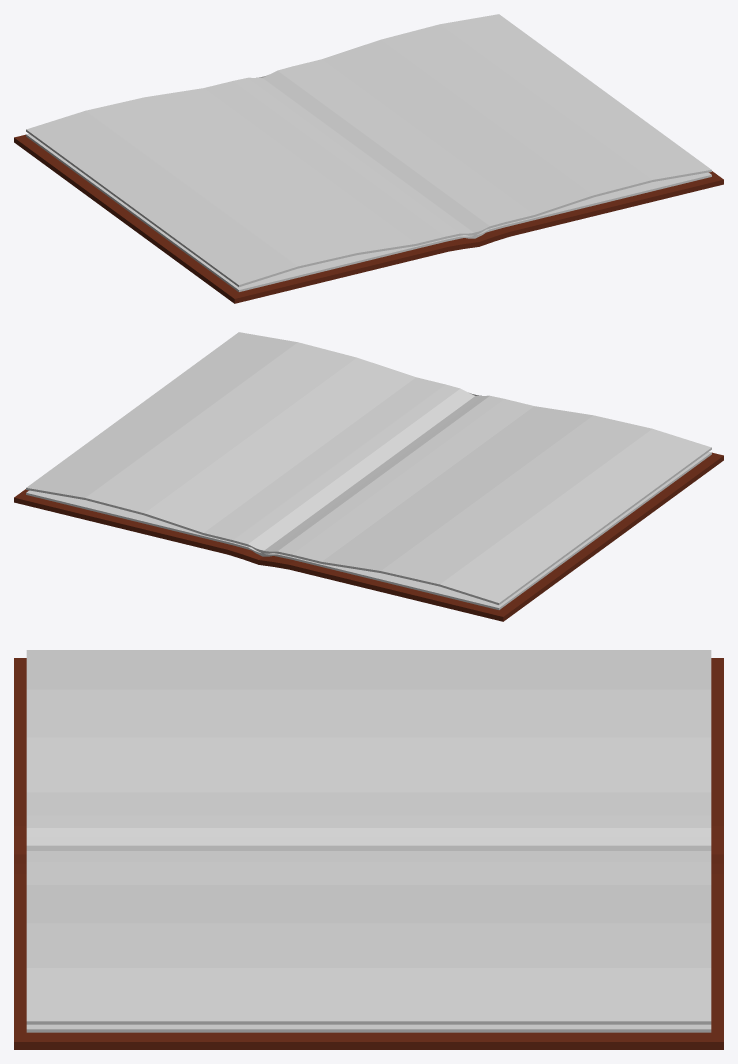
File: recipe book.fbx
3 renders of one model, top to bottom at view 1: azimuth 30°, elevation 25°; view 2: azimuth 150°, elevation 25°; view 3: azimuth 270°, elevation 25°, orthographic. The views are drawn at different scales.
Visible parts, largest first — view 1: Cube.002, Cube.001, Cube; view 2: Cube.002, Cube.001, Cube; view 3: Cube.002, Cube.001, Cube.
Boxes of the visible parts, x1=… form: Cube.002: x1=26, y1=14, x2=711, y2=286; Cube.001: x1=14, y1=134, x2=723, y2=303; Cube: x1=26, y1=134, x2=711, y2=291; Cube.002: x1=26, y1=332, x2=711, y2=604; Cube.001: x1=14, y1=452, x2=723, y2=621; Cube: x1=26, y1=452, x2=711, y2=609; Cube.002: x1=26, y1=650, x2=711, y2=1024; Cube.001: x1=14, y1=658, x2=723, y2=1049; Cube: x1=26, y1=1024, x2=711, y2=1032.
Size of the model in its own units: 256 by 10.39 by 200.
